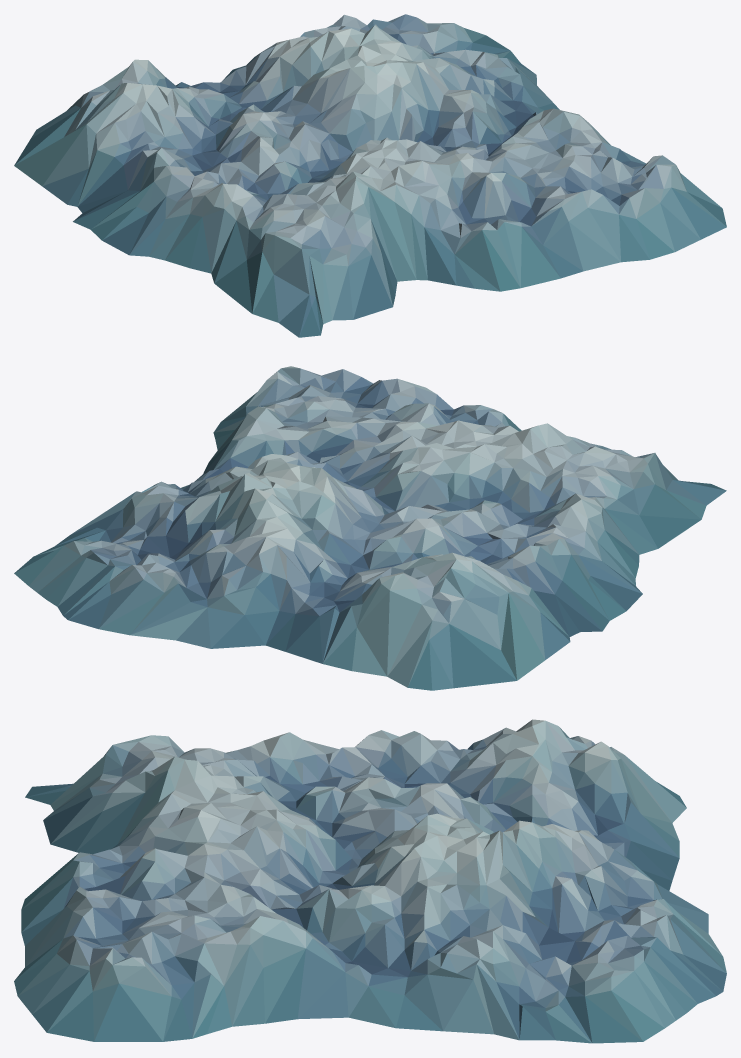
File: Iceberg_D.fbx
The picture shows the model from 3 angles, top to bottom: view 1: azimuth 30°, elevation 25°; view 2: azimuth 150°, elevation 25°; view 3: azimuth 270°, elevation 25°; orthographic projection. The views are drawn at different scales.
Visible parts, largest first — view 1: Iceberg_D; view 2: Iceberg_D; view 3: Iceberg_D.
Part boxes in pixels (bbox=[...]): Iceberg_D: bbox=[14, 14, 726, 337]; Iceberg_D: bbox=[14, 366, 726, 690]; Iceberg_D: bbox=[14, 719, 726, 1043].
Size of the model in its own units: 10298 by 1906 by 10866.
